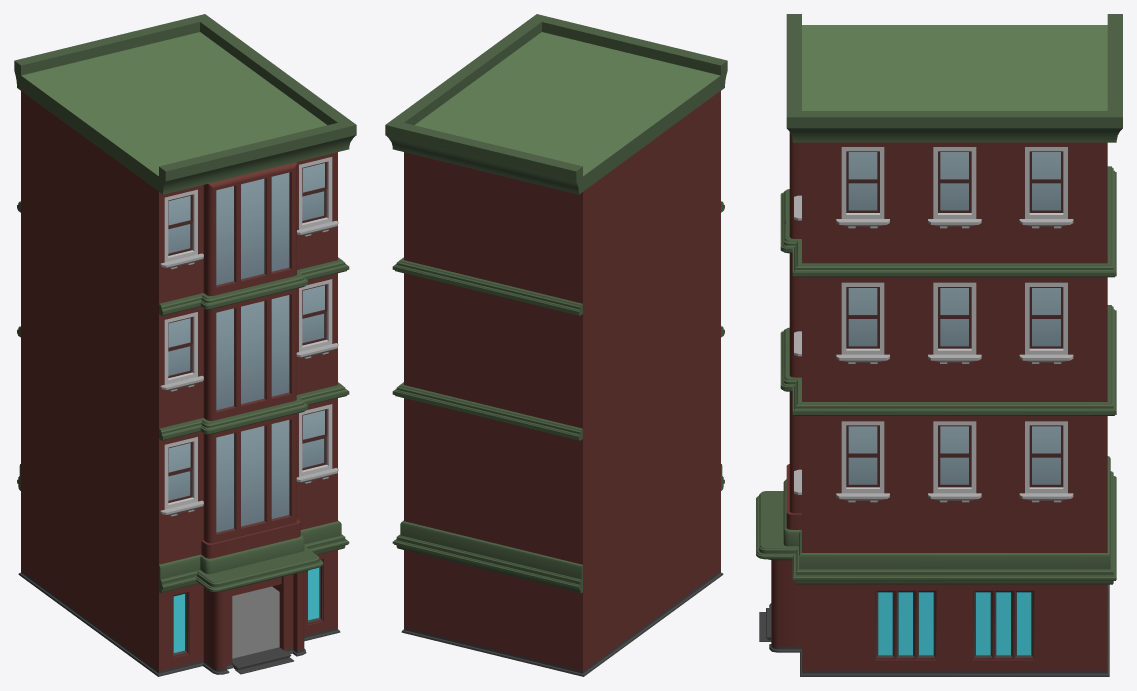
Rendered from SM_Buildings_House_04_V4.fbx.
3 views of the same model, side by side, from view 1: azimuth 30°, elevation 25°; view 2: azimuth 150°, elevation 25°; view 3: azimuth 270°, elevation 25° (orthographic). The views are drawn at different scales.
Parts seen in each view (by area): view 1: SM_Buildings_House_04_V4; view 2: SM_Buildings_House_04_V4; view 3: SM_Buildings_House_04_V4.
Part boxes in pixels (x1,y1,x2,y2): SM_Buildings_House_04_V4: [14, 14, 356, 676]; SM_Buildings_House_04_V4: [385, 14, 727, 676]; SM_Buildings_House_04_V4: [756, 14, 1122, 676].
Size of the model in its own units: 8.06 by 20.4 by 12.
